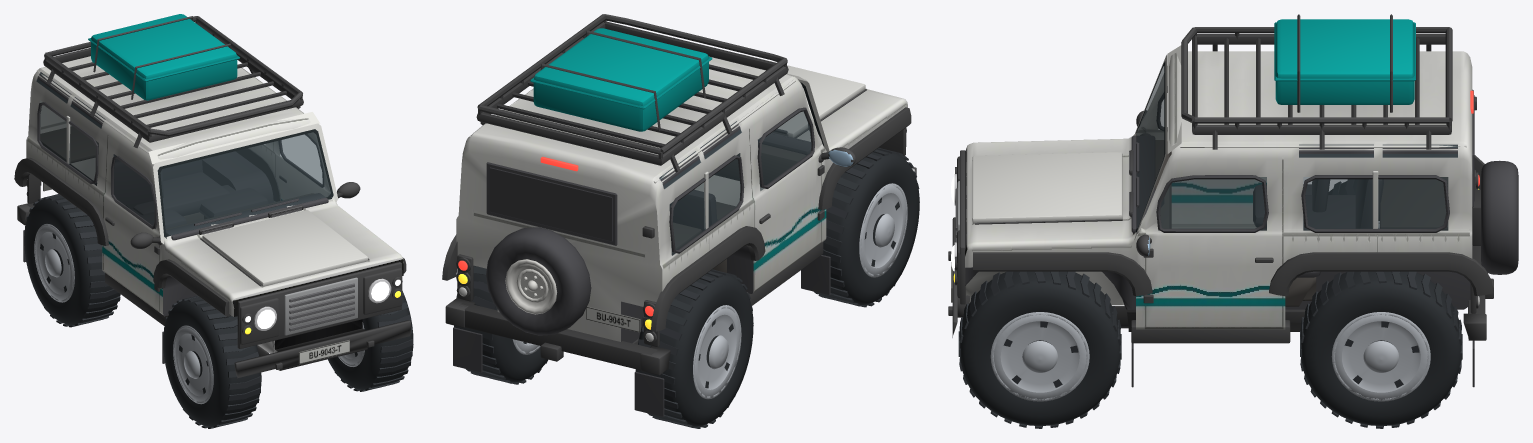
Rendered from defender.glb.
3 views of the same model, side by side, from view 1: azimuth 30°, elevation 25°; view 2: azimuth 150°, elevation 25°; view 3: azimuth 270°, elevation 25° (orthographic). The views are drawn at different scales.
Parts seen in each view (by area): view 1: body, f6b_parabrisas, wheel_fr, wheel_rr, glass_f6, wheel_fl, f6b_montantes, f6b_goma, f6b_dintel; view 2: body, wheel_fr, wheel_rr, glass_f6, wheel_rl; view 3: body, wheel_fl, wheel_rl, glass_f6, f6b_parabrisas, f6b_montantes.
Part boxes in pixels (x1,y1,x2,y2): body: (14, 14, 410, 378); f6b_parabrisas: (160, 132, 330, 235); wheel_fr: (163, 295, 261, 428); wheel_rr: (24, 194, 120, 327); glass_f6: (36, 72, 155, 228); wheel_fl: (328, 291, 413, 391); f6b_montantes: (153, 123, 338, 244); f6b_goma: (157, 129, 333, 238); f6b_dintel: (148, 112, 320, 164); body: (442, 14, 916, 416); wheel_fr: (814, 147, 919, 307); wheel_rr: (635, 269, 753, 428); glass_f6: (660, 111, 811, 255); wheel_rl: (454, 265, 547, 384); body: (948, 14, 1518, 387); wheel_fl: (958, 271, 1121, 428); wheel_rl: (1300, 271, 1462, 428); glass_f6: (1158, 144, 1457, 230); f6b_parabrisas: (1137, 66, 1164, 228); f6b_montantes: (1134, 54, 1167, 239).
Bounding box in the file's own units: 2.24 × 2.53 × 3.95.
Materials: 29 (2 with a texture image).
